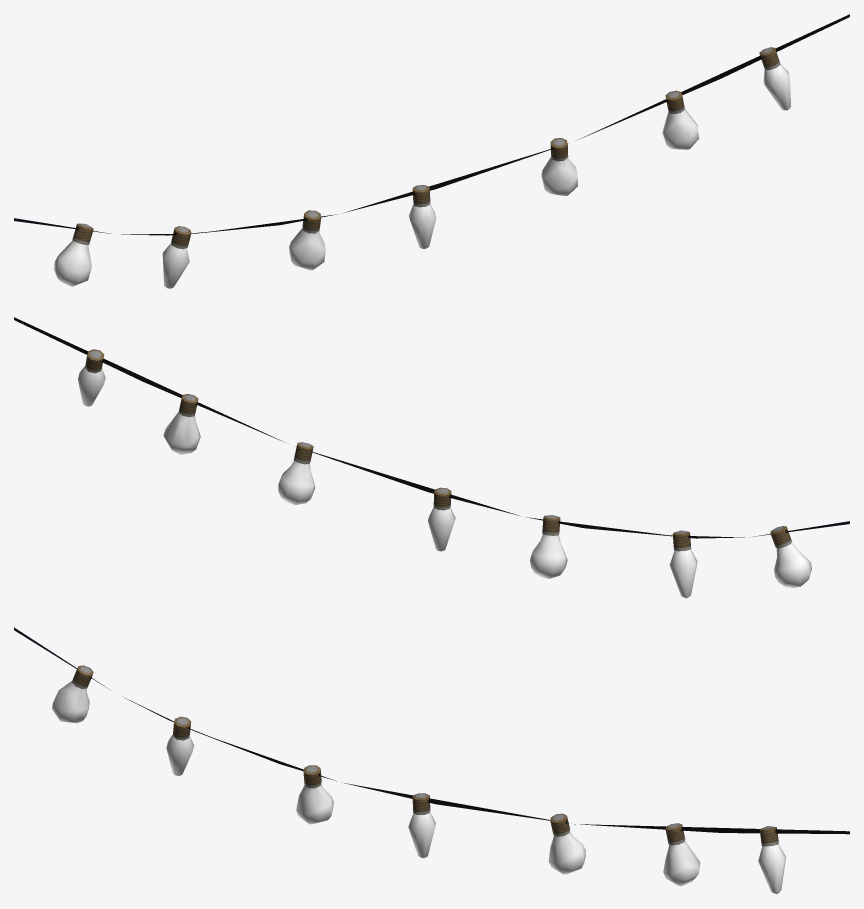
The model's file is string_lights_300_a.glb.
3 renders of one model, top to bottom at view 1: azimuth 30°, elevation 25°; view 2: azimuth 150°, elevation 25°; view 3: azimuth 330°, elevation 25°, orthographic.
Visible parts, largest first — view 1: string_lights_300_a; view 2: string_lights_300_a; view 3: string_lights_300_a.
Boxes of the visible parts, x1,y1,x2,y2 form: string_lights_300_a: [14, 14, 849, 288]; string_lights_300_a: [14, 317, 849, 598]; string_lights_300_a: [14, 627, 849, 894].
Bounding box in the file's own units: 3 × 0.4496 × 0.1502.
Materials: 1 (1 with a texture image).
